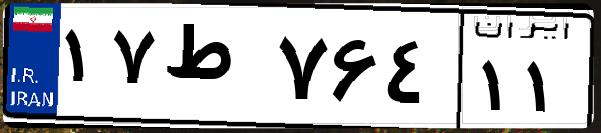1: (57, 26, 110, 100), (475, 38, 525, 113), (525, 38, 570, 115)
4: (385, 28, 445, 110)
6: (330, 28, 385, 110)
7: (270, 28, 330, 110), (110, 28, 158, 98)
ط: (158, 20, 270, 120)
